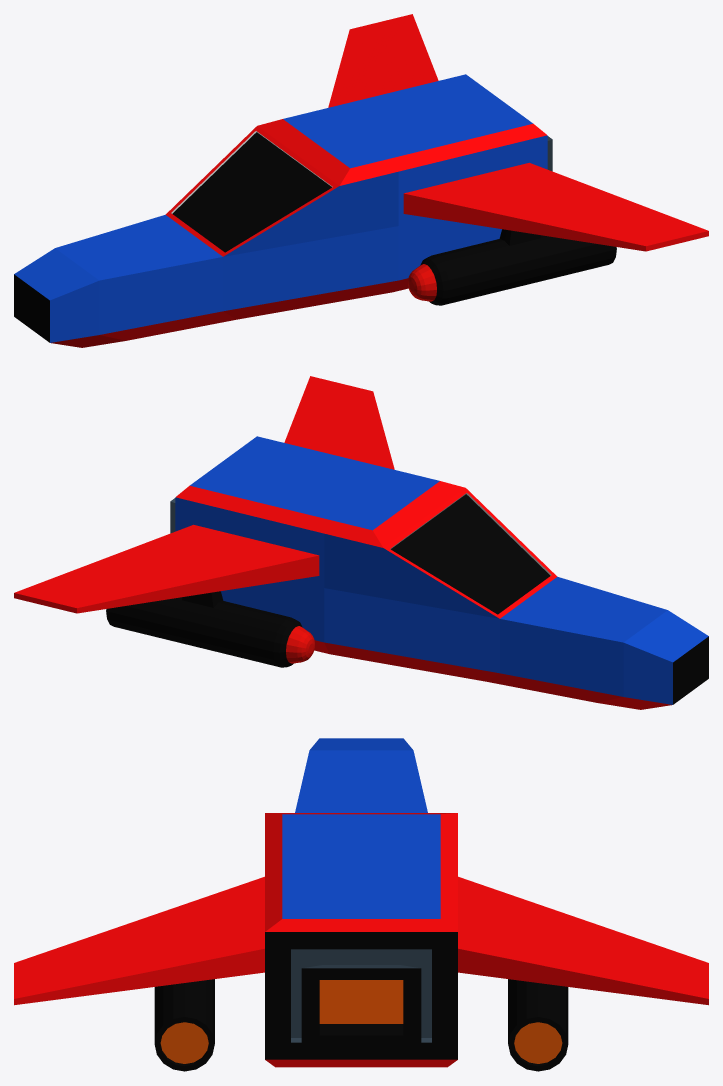
The model's file is Spaceship_1.fbx.
3 views of the same model, one above another, from view 1: azimuth 30°, elevation 25°; view 2: azimuth 150°, elevation 25°; view 3: azimuth 270°, elevation 25° (orthographic). The views are drawn at different scales.
Visible parts, largest first — view 1: Cube, Cylinder; view 2: Cube, Cylinder; view 3: Cube, Cylinder.
Boxes of the visible parts, box(x1,y1,x2,y2) form: Cube: box(14, 14, 708, 347); Cylinder: box(408, 229, 616, 305); Cube: box(14, 376, 708, 709); Cylinder: box(106, 591, 314, 667); Cube: box(14, 738, 708, 1067); Cylinder: box(154, 979, 568, 1071).
Bounding box in the file's own units: 1016 × 242 × 986.
